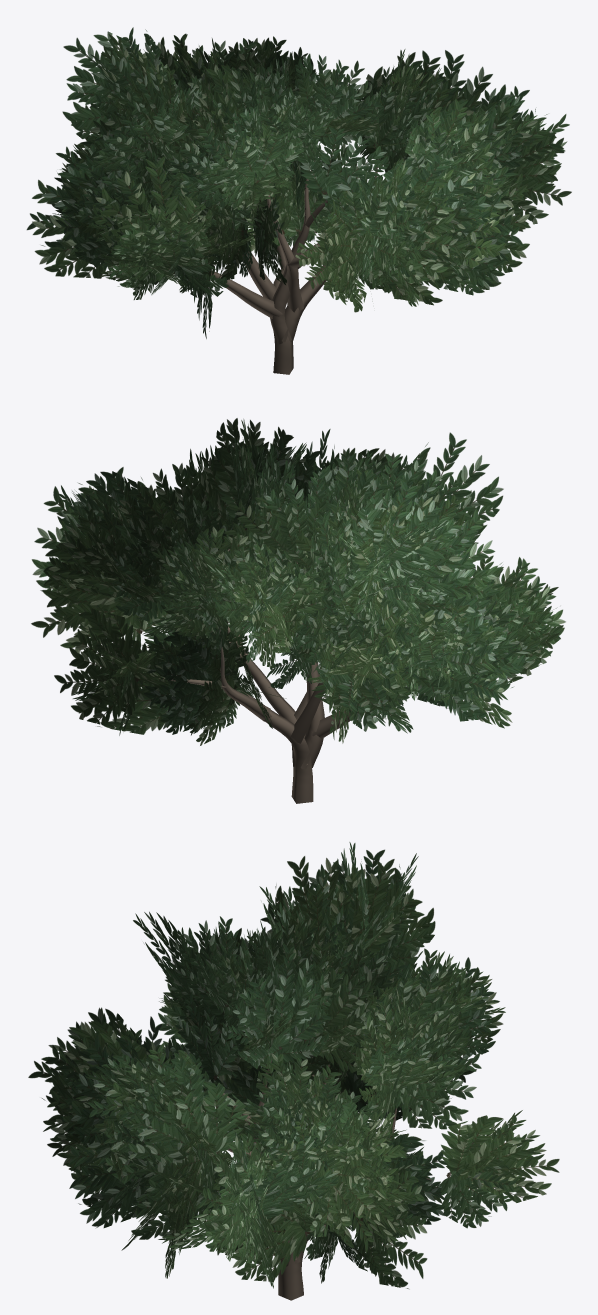
Rendered from olive_lod2.glb.
3 views of the same model, one above another, from view 1: azimuth 30°, elevation 25°; view 2: azimuth 150°, elevation 25°; view 3: azimuth 270°, elevation 25° (orthographic). The views are drawn at different scales.
Visible parts, largest first — view 1: Tree_Foliage_Main_LOD2, Tree_Foliage_Secondary_LOD2, Tree_Trunk_LOD2; view 2: Tree_Foliage_Main_LOD2, Tree_Foliage_Secondary_LOD2, Tree_Trunk_LOD2; view 3: Tree_Foliage_Main_LOD2, Tree_Foliage_Secondary_LOD2, Tree_Trunk_LOD2.
Part boxes in pixels (left/top/right/bottom): Tree_Foliage_Main_LOD2: left=26, top=27, right=571, bottom=338; Tree_Foliage_Secondary_LOD2: left=150, top=36, right=473, bottom=301; Tree_Trunk_LOD2: left=210, top=159, right=386, bottom=374; Tree_Foliage_Main_LOD2: left=31, top=418, right=565, bottom=743; Tree_Foliage_Secondary_LOD2: left=91, top=446, right=476, bottom=745; Tree_Trunk_LOD2: left=142, top=549, right=359, bottom=803; Tree_Foliage_Main_LOD2: left=28, top=842, right=559, bottom=1289; Tree_Foliage_Secondary_LOD2: left=83, top=916, right=481, bottom=1283; Tree_Trunk_LOD2: left=222, top=1057, right=431, bottom=1300.
Bounding box in the file's own units: 1.8 × 1.21 × 1.56.
3 materials, 2 textured.
